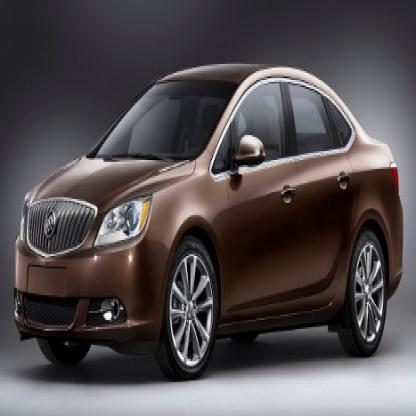car: (15, 64, 405, 382)
